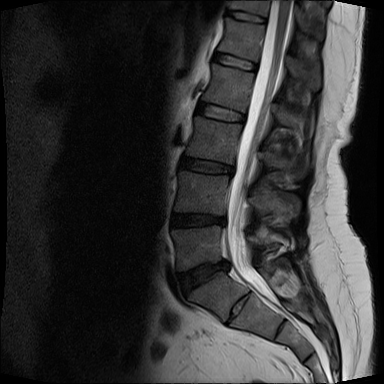Lumbar Disc Bulge (LDB): (172, 253, 235, 302), (165, 206, 233, 235), (169, 156, 245, 179)
Normal IVD: (193, 97, 250, 128), (207, 49, 261, 76), (221, 6, 269, 27)
Spinal Stenosis (SS): (214, 255, 236, 277), (220, 161, 241, 181), (214, 211, 231, 232)
